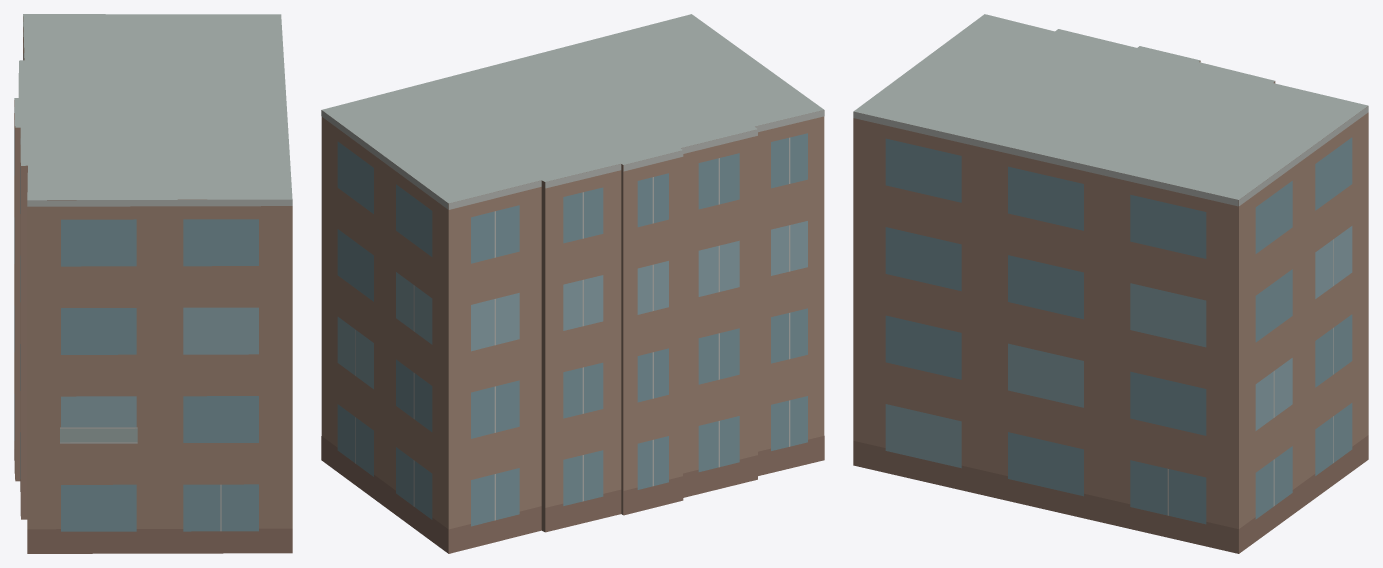
Rendered from survey-upis-32670167.glb.
The picture shows the model from 3 angles, left to right: view 1: azimuth 30°, elevation 25°; view 2: azimuth 150°, elevation 25°; view 3: azimuth 270°, elevation 25°; orthographic projection.
Visible parts, largest first — view 1: survey-upis-32670167.tmp; view 2: survey-upis-32670167.tmp; view 3: survey-upis-32670167.tmp.
Boxes of the visible parts, <box> form: survey-upis-32670167.tmp: <box>14,14,292,553</box>; survey-upis-32670167.tmp: <box>321,14,824,553</box>; survey-upis-32670167.tmp: <box>853,14,1368,553</box>.
Size of the model in its own units: 14.79 by 13.12 by 17.32.
